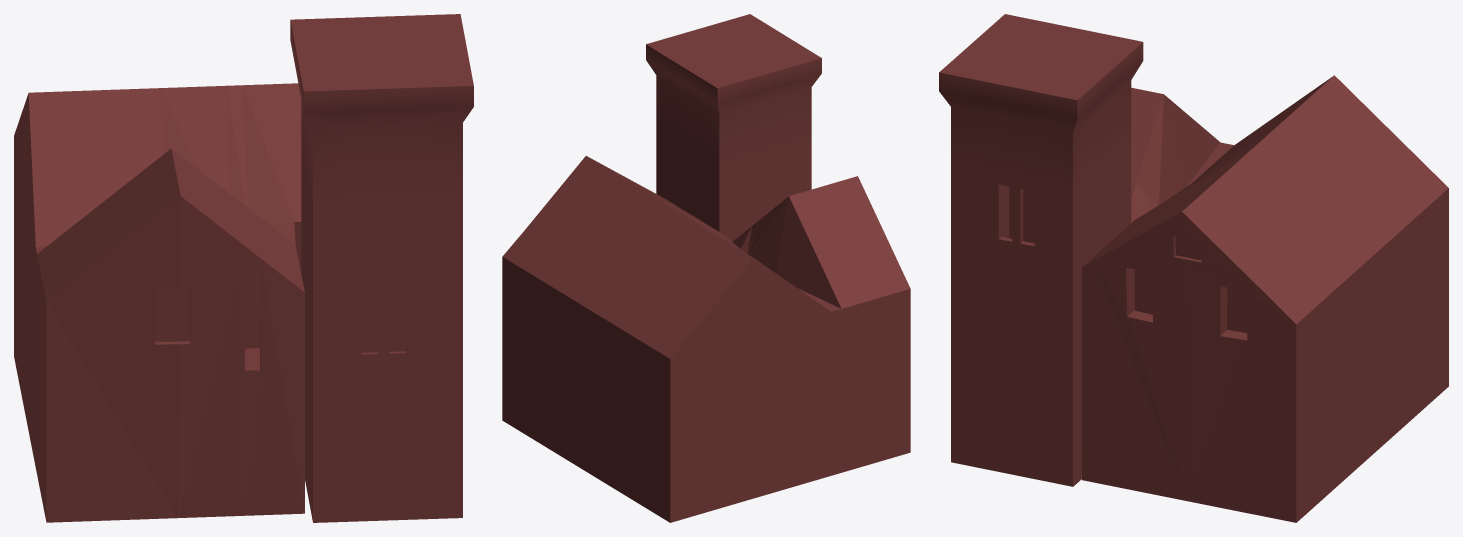
Rendered from LIghthouse HOusewithUV.fbx.
3 views of the same model, side by side, from view 1: azimuth 30°, elevation 25°; view 2: azimuth 150°, elevation 25°; view 3: azimuth 270°, elevation 25° (orthographic). The views are drawn at different scales.
Visible parts, largest first — view 1: pCube11, polySurface7; view 2: pCube11, polySurface7; view 3: pCube11, polySurface7.
Part boxes in pixels (box(x1,y1,x2,y2)): pCube11: box(14, 83, 304, 522); polySurface7: box(290, 14, 473, 522); pCube11: box(502, 156, 910, 522); polySurface7: box(646, 14, 821, 241); pCube11: box(1082, 75, 1448, 522); polySurface7: box(939, 14, 1143, 486).
Bounding box in the file's own units: 13.1 × 11.94 × 14.09.
